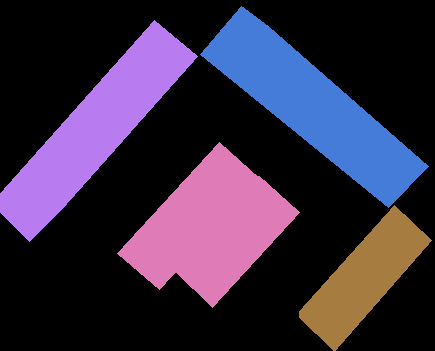parkingspot: (200, 6, 428, 207), (0, 20, 197, 241), (117, 142, 260, 289), (299, 205, 431, 351), (173, 176, 299, 307)
